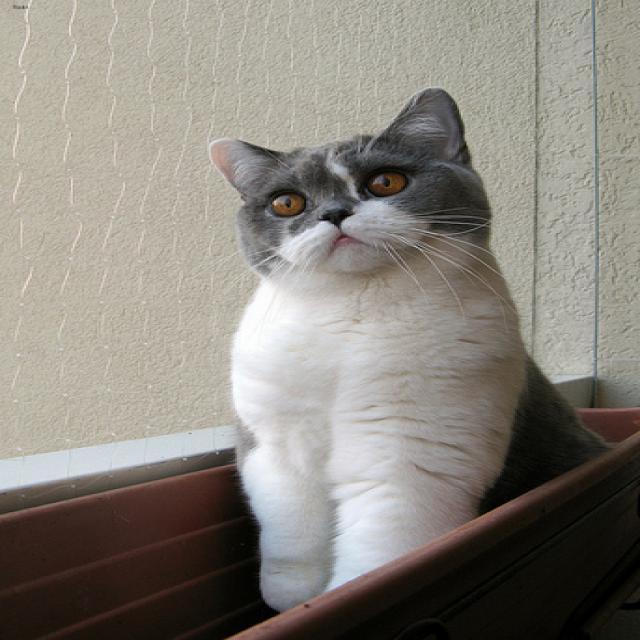British_Shorthair: (197, 83, 503, 284)
